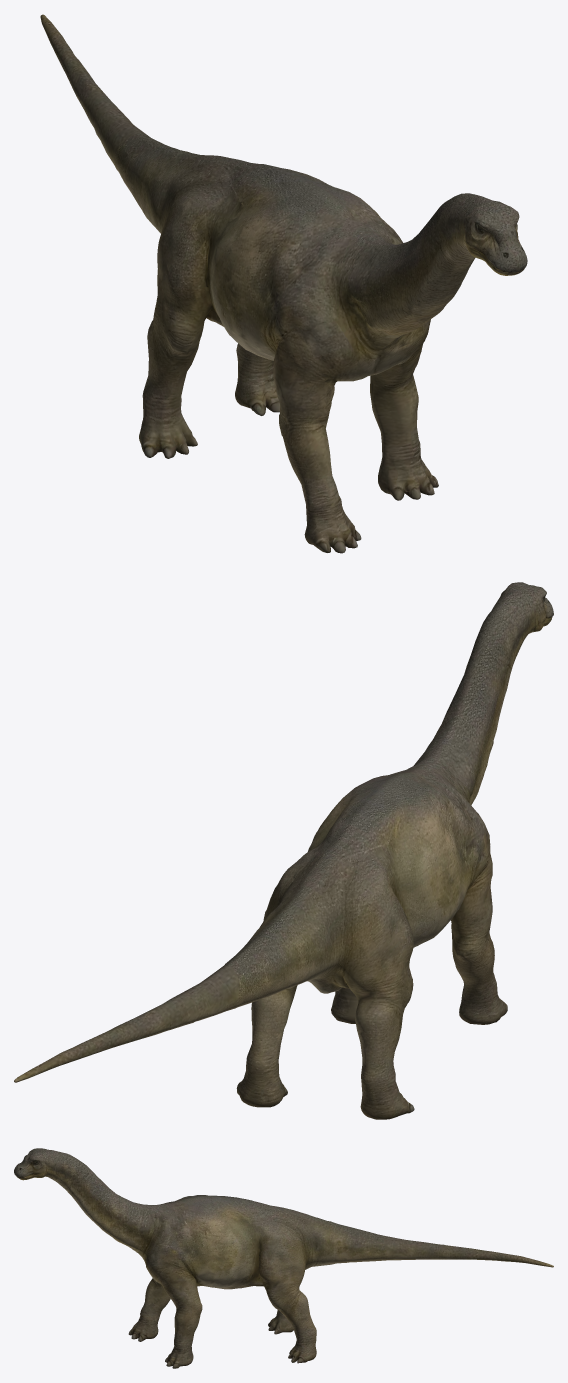
The model's file is apatosaurus.glb.
3 renders of one model, top to bottom at view 1: azimuth 30°, elevation 25°; view 2: azimuth 150°, elevation 25°; view 3: azimuth 270°, elevation 25°, orthographic. The views are drawn at different scales.
Parts seen in each view (by area): view 1: dino; view 2: dino; view 3: dino.
Boxes of the visible parts, bbox=[...] form: dino: bbox=[40, 14, 527, 553]; dino: bbox=[14, 582, 553, 1119]; dino: bbox=[14, 1148, 553, 1368].
Size of the model in its own units: 4.48 by 8.97 by 22.
Materials: 1 (1 with a texture image).
